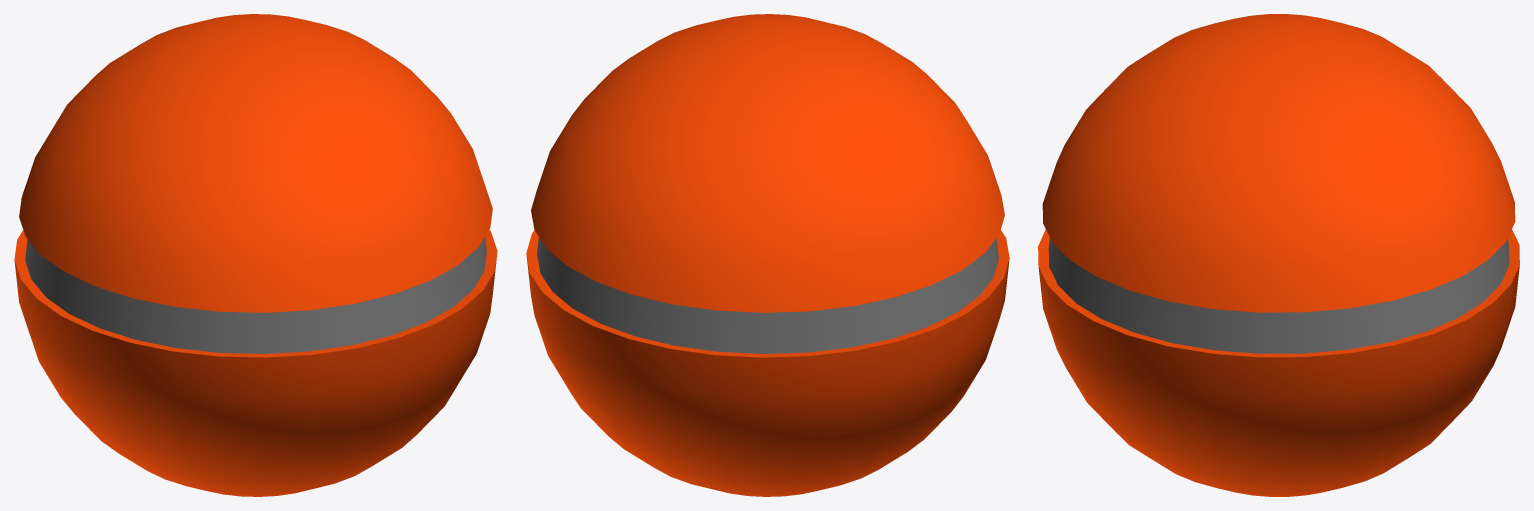
The model's file is Stage4_sh_13_root.fbx.
3 renders of one model, left to right at view 1: azimuth 30°, elevation 25°; view 2: azimuth 150°, elevation 25°; view 3: azimuth 270°, elevation 25°, orthographic.
Visible parts, largest first — view 1: Stage4_sh_13_sh_3, Stage4_sh_13_sh_2, Stage4_sh_13_sh_4, Stage4_sh_13_sh_1; view 2: Stage4_sh_13_sh_3, Stage4_sh_13_sh_4, Stage4_sh_13_sh_5, Stage4_sh_13_sh_1; view 3: Stage4_sh_13_sh_4, Stage4_sh_13_sh_2, Stage4_sh_13_sh_5, Stage4_sh_13_sh_3.
Part boxes in pixels (x1,y1,x2,y2): Stage4_sh_13_sh_3: [14, 26, 366, 423]; Stage4_sh_13_sh_2: [311, 176, 497, 475]; Stage4_sh_13_sh_4: [171, 14, 485, 185]; Stage4_sh_13_sh_1: [51, 381, 355, 496]; Stage4_sh_13_sh_3: [635, 22, 1009, 437]; Stage4_sh_13_sh_4: [526, 14, 825, 275]; Stage4_sh_13_sh_5: [528, 269, 735, 490]; Stage4_sh_13_sh_1: [720, 372, 978, 496]; Stage4_sh_13_sh_4: [1095, 27, 1509, 389]; Stage4_sh_13_sh_2: [1038, 125, 1337, 495]; Stage4_sh_13_sh_5: [1261, 204, 1519, 496]; Stage4_sh_13_sh_3: [1044, 14, 1516, 242].
Size of the model in its own units: 29.58 by 29.7 by 29.58.
